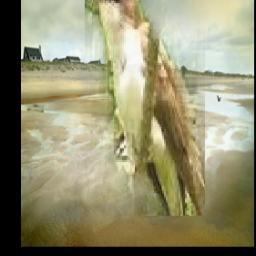Cuckoo: (85, 0, 205, 216)
